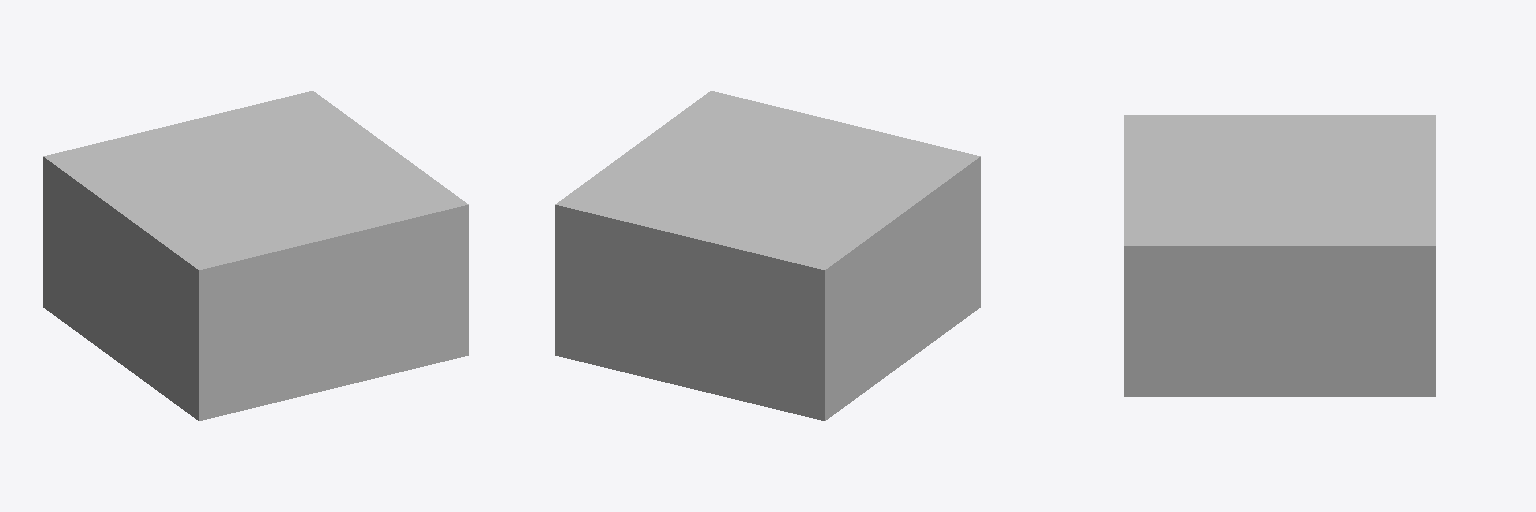
File: room.obj
3 renders of one model, left to right at view 1: azimuth 30°, elevation 25°; view 2: azimuth 150°, elevation 25°; view 3: azimuth 270°, elevation 25°, orthographic.
Visible parts, largest first — view 1: Cube_Cube.002; view 2: Cube_Cube.002; view 3: Cube_Cube.002.
Part boxes in pixels (bbox=[...]): Cube_Cube.002: bbox=[43, 91, 468, 420]; Cube_Cube.002: bbox=[555, 91, 980, 420]; Cube_Cube.002: bbox=[1124, 115, 1435, 396].
Size of the model in its own units: 14 by 7.49 by 14.